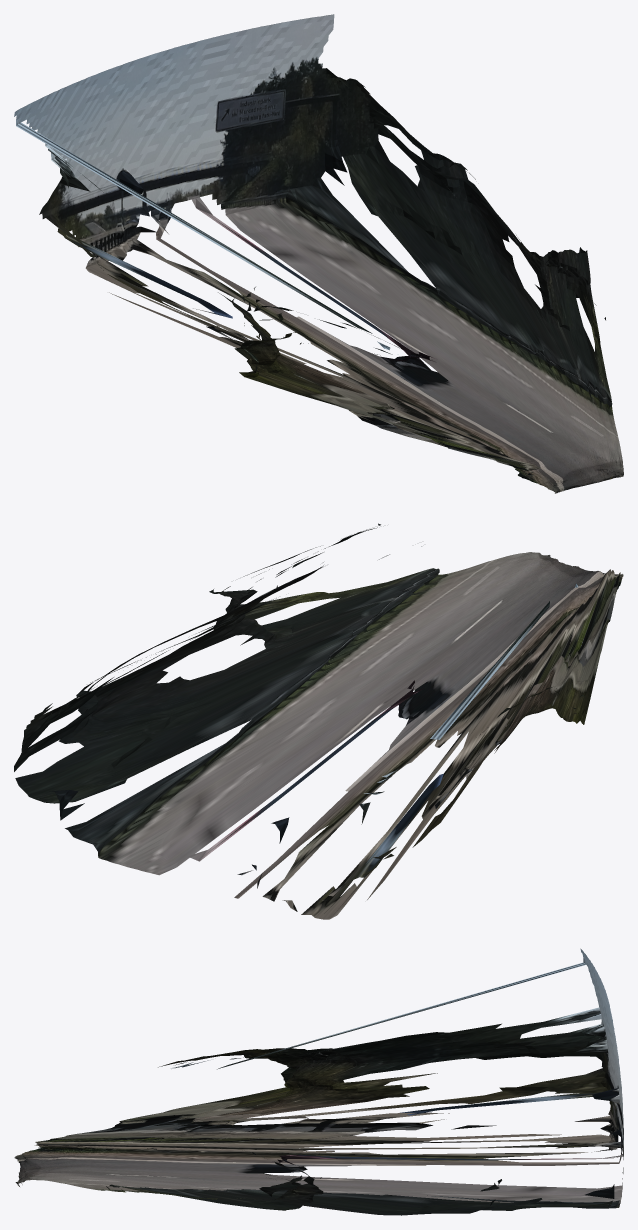
3 renders of one model, top to bottom at view 1: azimuth 30°, elevation 25°; view 2: azimuth 150°, elevation 25°; view 3: azimuth 270°, elevation 25°, orthographic. The views are drawn at different scales.
Visible parts, largest first — view 1: defaultobject; view 2: defaultobject; view 3: defaultobject.
Boxes of the visible parts, left/top/right/bottom form: defaultobject: left=14, top=14, right=623, bottom=493; defaultobject: left=14, top=523, right=623, bottom=919; defaultobject: left=14, top=948, right=623, bottom=1215.
Bounding box in the file's own units: 26.81 × 12.96 × 44.61.
Materials: 1 (1 with a texture image).
